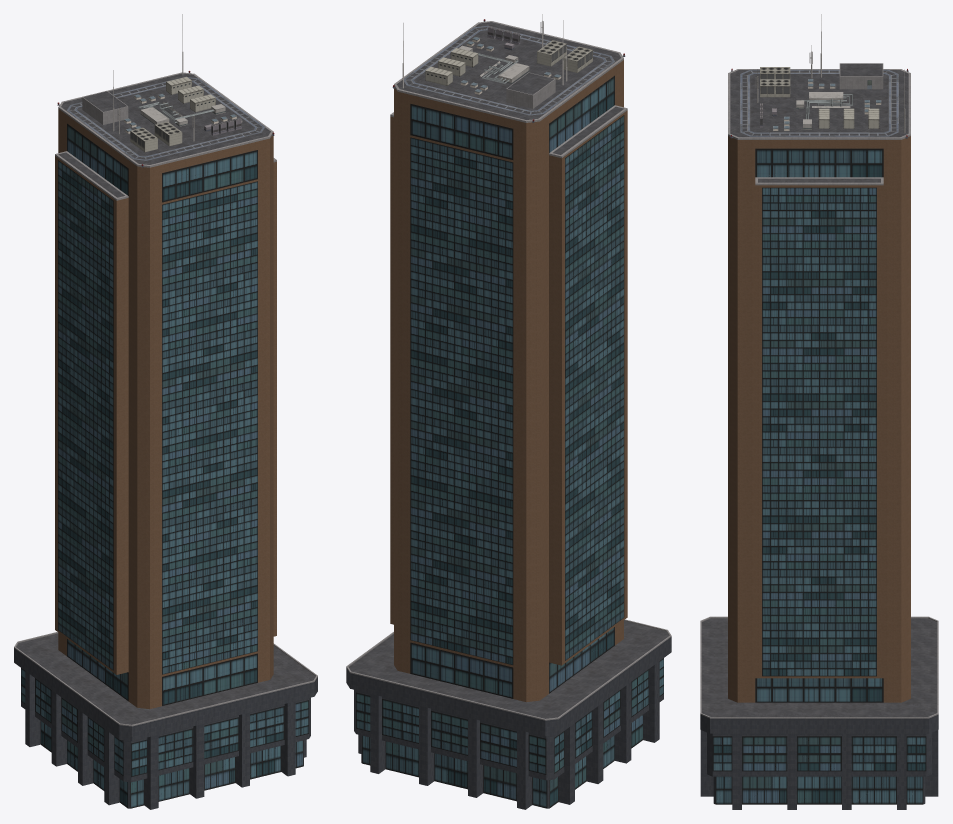
Rendered from building_Ba.FBX.
3 views of the same model, side by side, from view 1: azimuth 30°, elevation 25°; view 2: azimuth 150°, elevation 25°; view 3: azimuth 270°, elevation 25° (orthographic). The views are drawn at different scales.
Visible parts, largest first — view 1: building_Ba; view 2: building_Ba; view 3: building_Ba.
Boxes of the visible parts, x1,y1,x2,y2 form: building_Ba: (14,14,317,809); building_Ba: (346,14,671,809); building_Ba: (700,14,938,809).
Size of what is drawn, in the model's own units: 1949 by 1949 by 6494.
